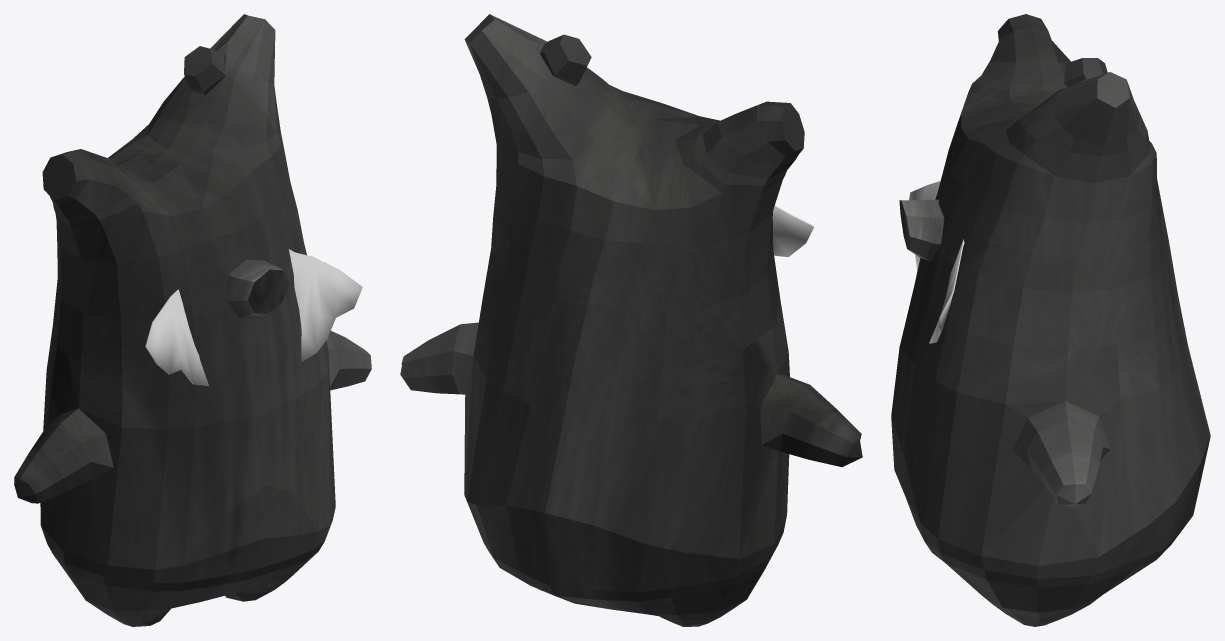
Rendered from frame_0056.obj.
The picture shows the model from 3 angles, left to right: view 1: azimuth 30°, elevation 25°; view 2: azimuth 150°, elevation 25°; view 3: azimuth 270°, elevation 25°; orthographic projection. The views are drawn at different scales.
Parts seen in each view (by area): view 1: korok, leaf, nose; view 2: korok, leaf; view 3: korok, nose, leaf.
Part boxes in pixels (left/top/right/bottom): korok: left=14, top=14, right=371, bottom=626; leaf: left=145, top=249, right=362, bottom=385; nose: left=225, top=259, right=289, bottom=318; korok: left=400, top=14, right=862, bottom=626; leaf: left=772, top=205, right=813, bottom=257; korok: left=891, top=14, right=1210, bottom=626; nose: left=899, top=199, right=944, bottom=260; leaf: left=909, top=181, right=964, bottom=343.
Bounding box in the file's own units: 1.7 × 2.29 × 1.16.
